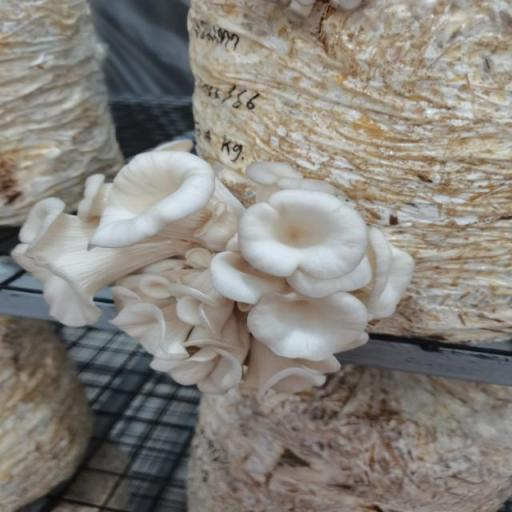White Oyster Mushroom: (13, 136, 422, 413)
